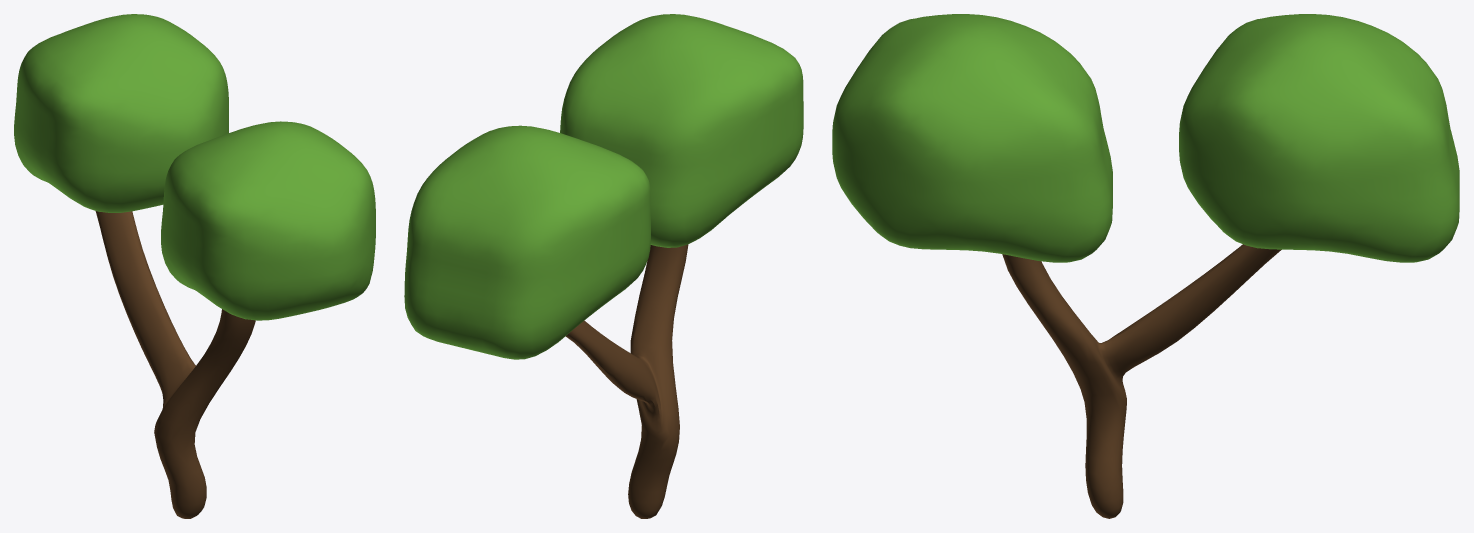
File: Tree 2.fbx
The picture shows the model from 3 angles, left to right: view 1: azimuth 30°, elevation 25°; view 2: azimuth 150°, elevation 25°; view 3: azimuth 270°, elevation 25°; orthographic projection. The views are drawn at different scales.
Visible parts, largest first — view 1: Cube_1, Cube; view 2: Cube_1, Cube; view 3: Cube_1, Cube.
Part boxes in pixels (x1,y1,x2,y2): Cube_1: (14, 14, 375, 320); Cube: (95, 211, 255, 518); Cube_1: (404, 14, 803, 359); Cube: (565, 244, 688, 518); Cube_1: (832, 14, 1459, 262); Cube: (1002, 244, 1281, 518).
Bounding box in the file's own units: 289 × 639 × 723.
